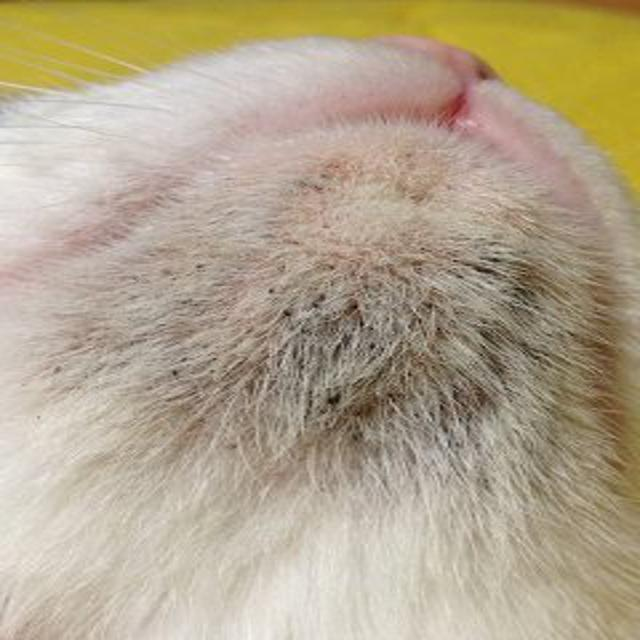acne: (166, 217, 518, 445)
